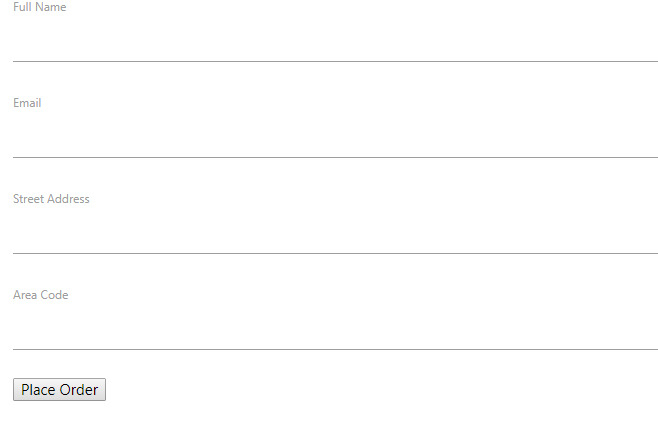button: (11, 376, 109, 403)
field_line: (10, 190, 658, 259), (9, 285, 658, 353), (10, 93, 658, 161), (8, 1, 658, 68)
